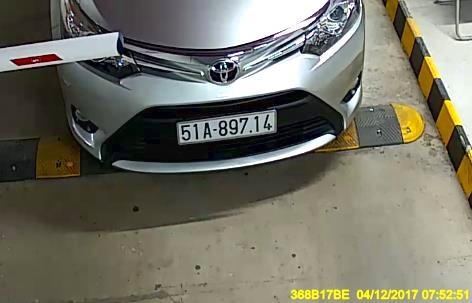plate: (174, 111, 278, 148)
